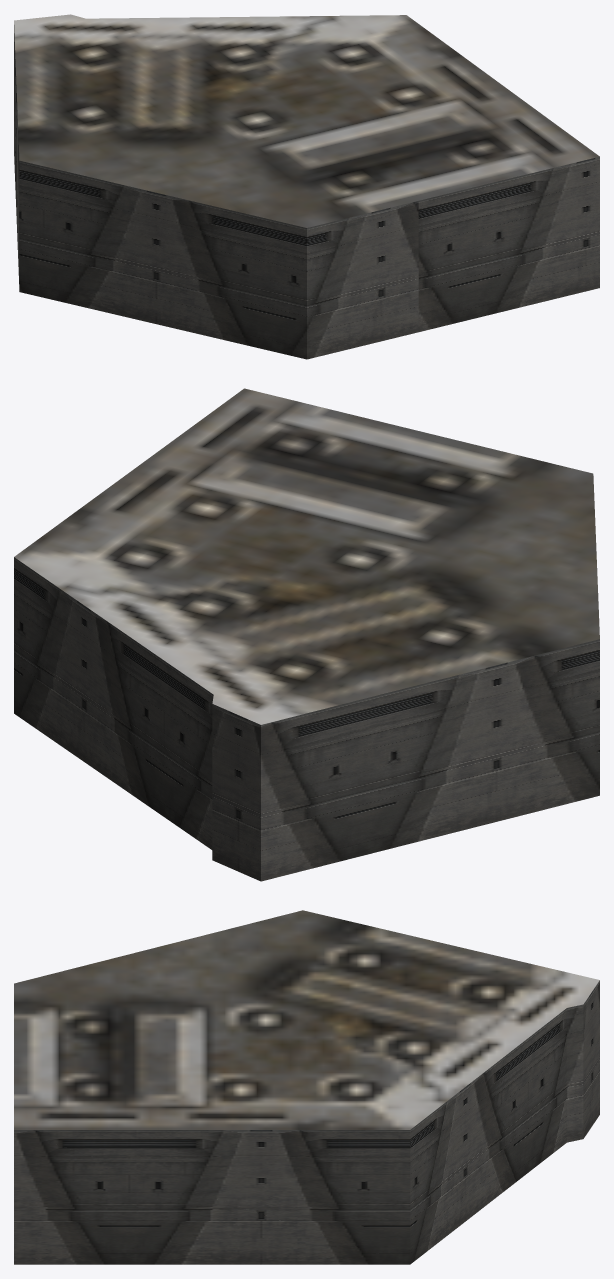
The model's file is fortress_heavy_56.glb.
3 renders of one model, top to bottom at view 1: azimuth 30°, elevation 25°; view 2: azimuth 150°, elevation 25°; view 3: azimuth 270°, elevation 25°, orthographic. The views are drawn at different scales.
Parts seen in each view (by area): view 1: buildings/saxarba/fortress_heavy/fortress_heavy_56; view 2: buildings/saxarba/fortress_heavy/fortress_heavy_56; view 3: buildings/saxarba/fortress_heavy/fortress_heavy_56.
Boxes of the visible parts, left/top/right/bottom form: buildings/saxarba/fortress_heavy/fortress_heavy_56: left=14, top=14, right=599, bottom=359; buildings/saxarba/fortress_heavy/fortress_heavy_56: left=14, top=388, right=599, bottom=881; buildings/saxarba/fortress_heavy/fortress_heavy_56: left=14, top=910, right=599, bottom=1264.
Bounding box in the file's own units: 63 × 18 × 71.
